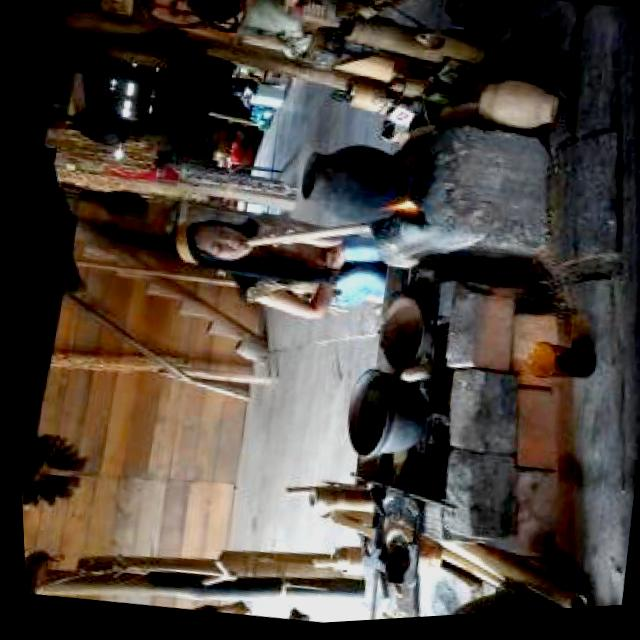helmet: (369, 194, 419, 228)
